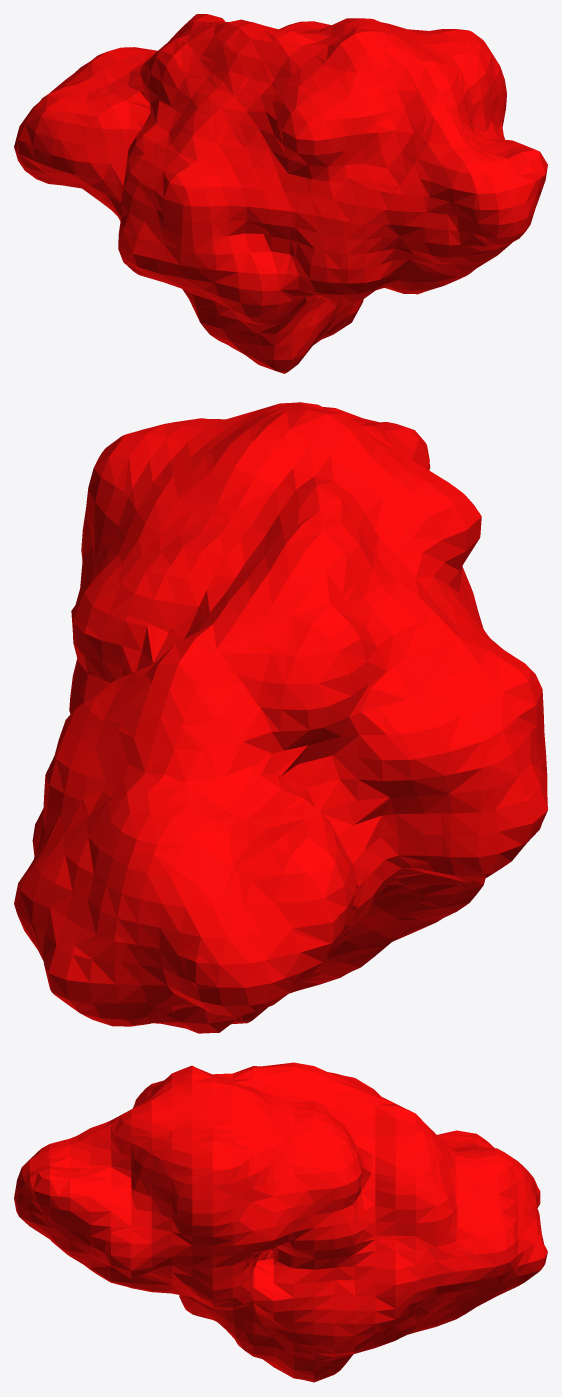
File: ade_coarse.dae
3 views of the same model, one above another, from view 1: azimuth 30°, elevation 25°; view 2: azimuth 150°, elevation 25°; view 3: azimuth 270°, elevation 25° (orthographic). The views are drawn at different scales.
Parts seen in each view (by area): view 1: ade; view 2: ade; view 3: ade.
Part boxes in pixels (bbox=[...]): ade: bbox=[14, 14, 547, 373]; ade: bbox=[14, 402, 547, 1033]; ade: bbox=[14, 1062, 547, 1382].
Size of the model in its own units: 61 by 61.61 by 96.06.
